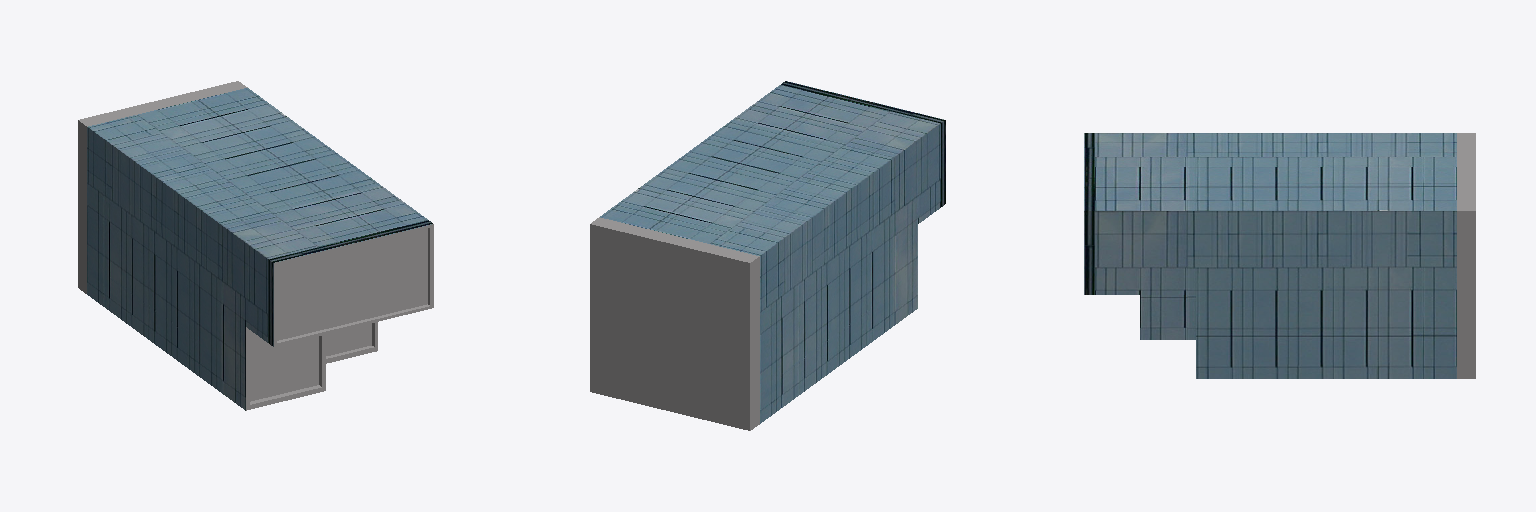
The picture shows the model from 3 angles: view 1: azimuth 30°, elevation 25°; view 2: azimuth 150°, elevation 25°; view 3: azimuth 270°, elevation 25°; orthographic projection.
Parts seen in each view (by area): view 1: object_8, object_1, object_5, object_4, object_2, object_10, object_3; view 2: object_8, object_10, object_5, object_4; view 3: object_8, object_5, object_4, object_10.
Part boxes in pixels (bbox=[...]): object_8: bbox=[87, 88, 376, 389]; object_1: bbox=[274, 224, 433, 346]; object_5: bbox=[218, 183, 405, 410]; object_4: bbox=[246, 204, 432, 346]; object_2: bbox=[246, 327, 325, 410]; object_10: bbox=[78, 81, 247, 293]; object_3: bbox=[326, 322, 377, 363]; object_8: bbox=[600, 122, 889, 423]; object_10: bbox=[590, 217, 759, 430]; object_5: bbox=[730, 101, 917, 328]; object_4: bbox=[759, 81, 945, 223]; object_8: bbox=[1196, 133, 1456, 378]; object_5: bbox=[1140, 133, 1195, 339]; object_4: bbox=[1084, 133, 1139, 294]; object_10: bbox=[1457, 133, 1475, 378].
Size of the model in its own units: 3.19 by 3.19 by 6.74.
3 materials, 1 textured.